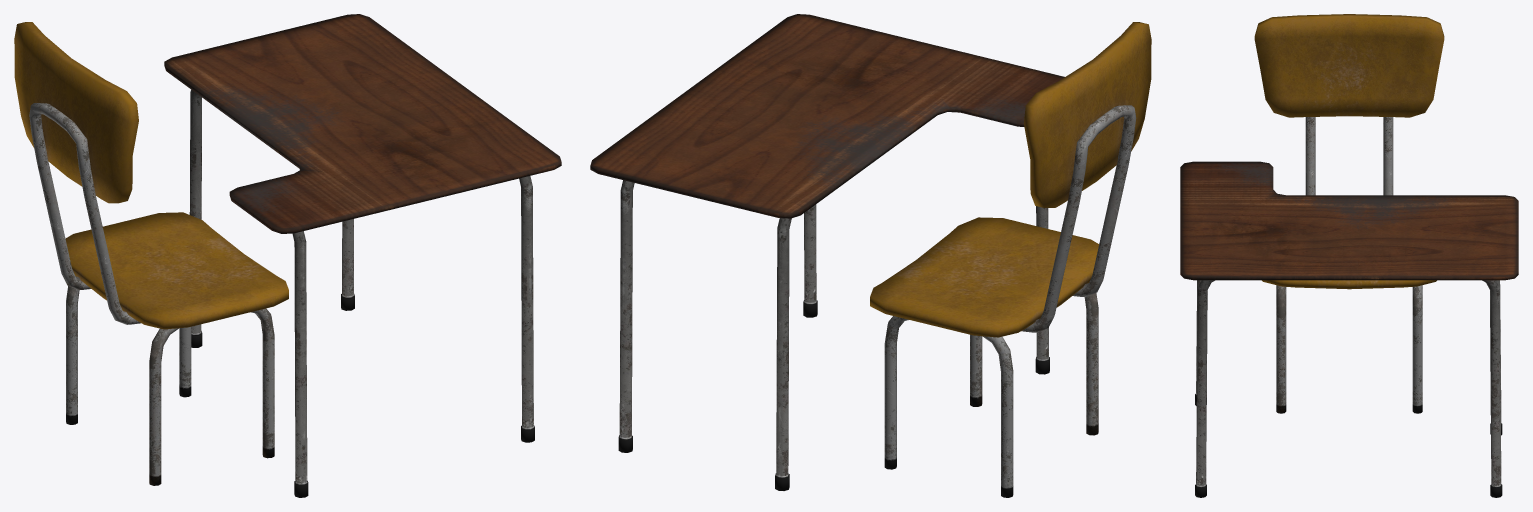
Rendered from student_desk.glb.
The picture shows the model from 3 angles, left to right: view 1: azimuth 30°, elevation 25°; view 2: azimuth 150°, elevation 25°; view 3: azimuth 270°, elevation 25°; orthographic projection. The views are drawn at different scales.
Parts seen in each view (by area): view 1: desk_low, chair_low; view 2: desk_low, chair_low; view 3: desk_low, chair_low.
Boxes of the visible parts, box(x1,y1,x2,y2) form: desk_low: box(164, 14, 561, 497); chair_low: box(14, 22, 288, 485); desk_low: box(590, 14, 1064, 490); chair_low: box(870, 22, 1151, 497); desk_low: box(1180, 161, 1518, 497); chair_low: box(1254, 14, 1444, 413).
Size of the model in its own units: 1.37 by 1.29 by 1.19.
1 material, 1 textured.
